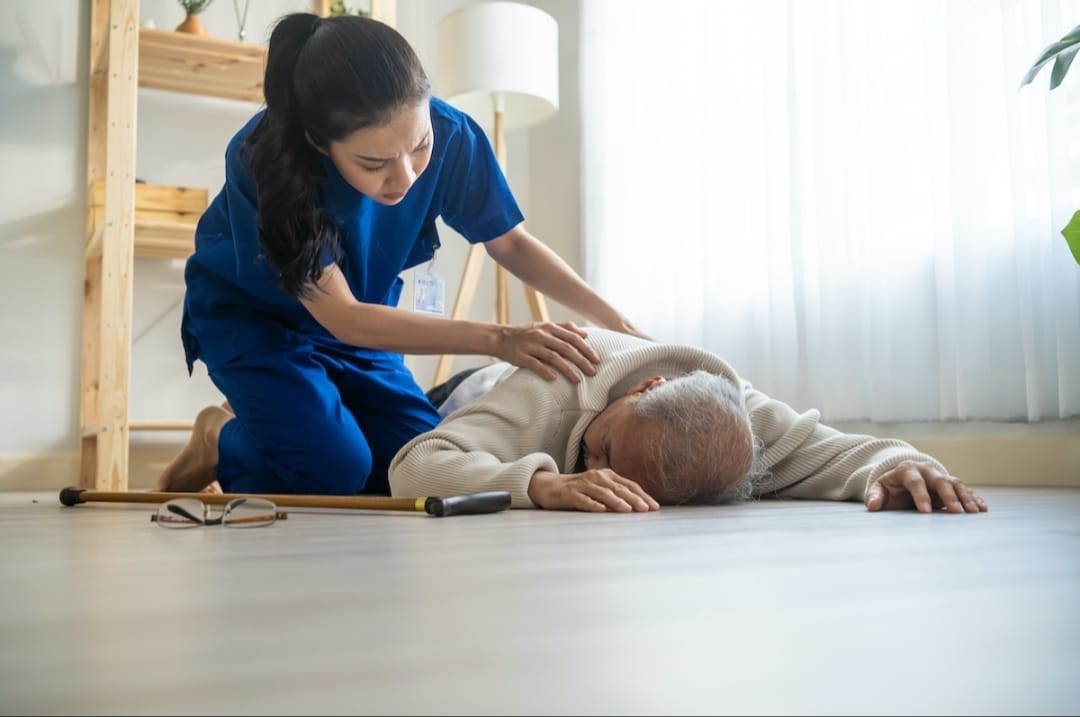felt down: (124, 9, 961, 535)
